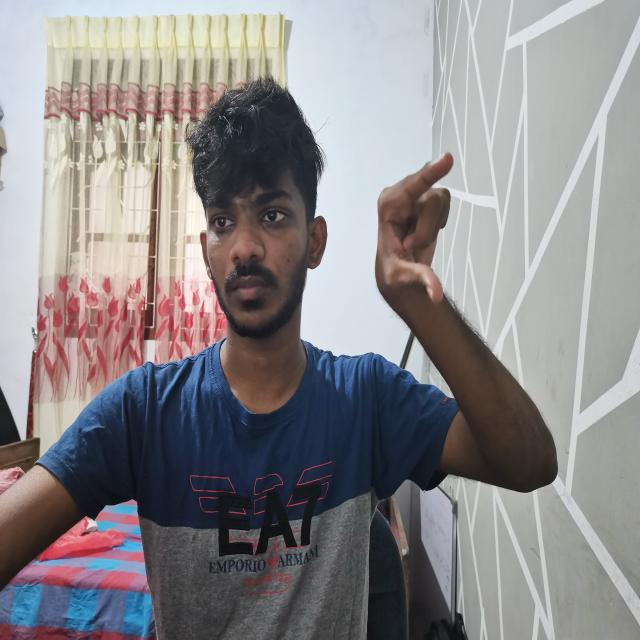No: (371, 152, 464, 307)
